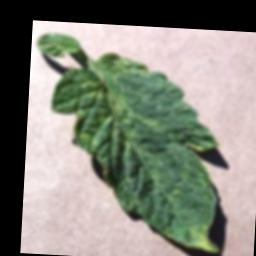Leaf_Mold: (182, 223, 222, 253)
